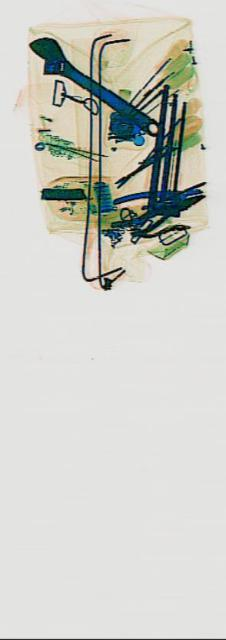Pliers: (107, 175, 200, 229)
Wrench: (25, 21, 162, 151)
